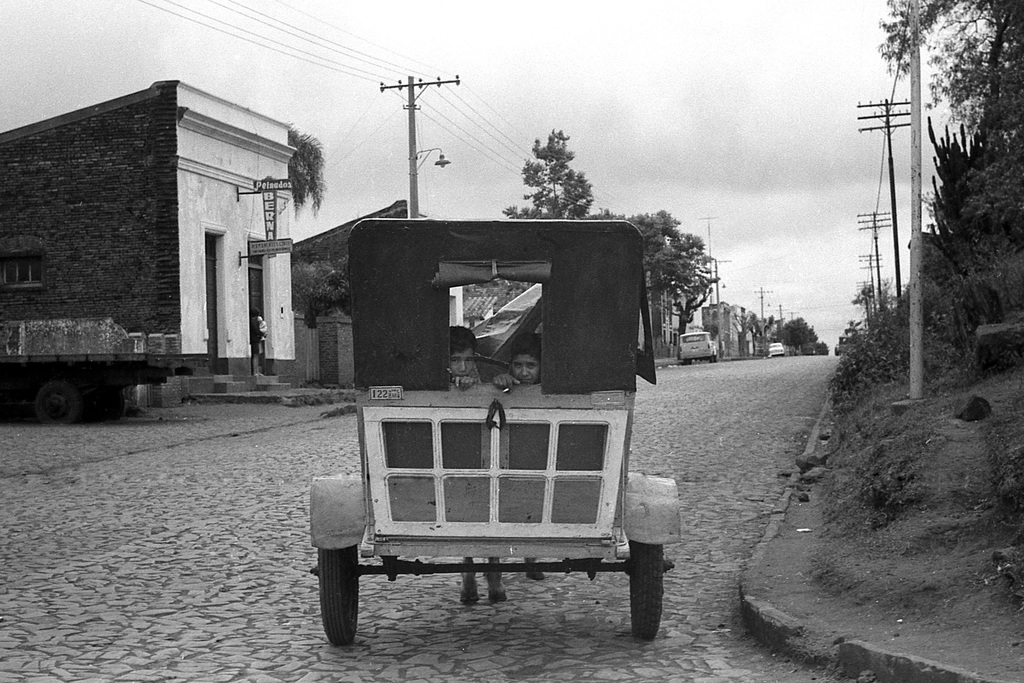Door: (204, 234, 219, 361), (252, 254, 264, 372)
